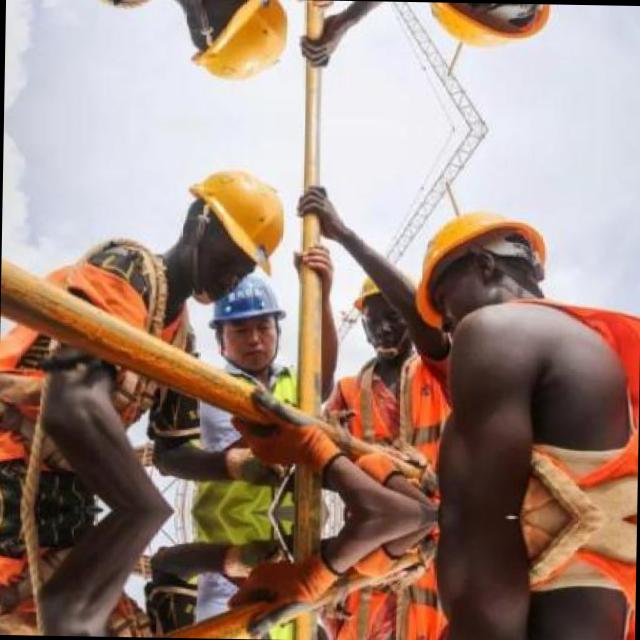helmet: (408, 192, 558, 324), (173, 165, 292, 302), (176, 0, 295, 85), (412, 2, 562, 68), (204, 263, 292, 371), (349, 264, 420, 356)
